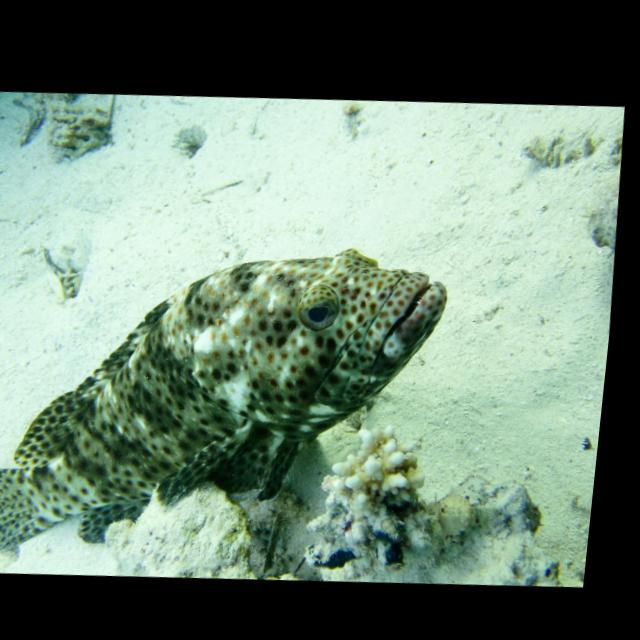Groupers: (0, 224, 461, 579)
